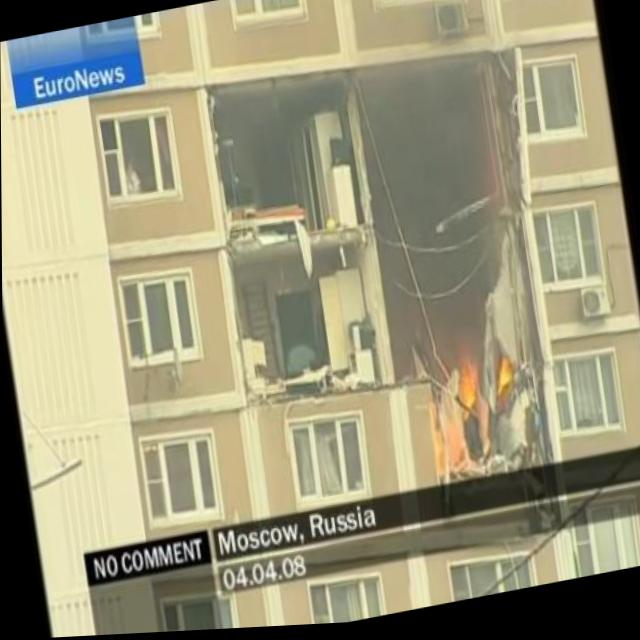fire: (448, 353, 488, 432), (494, 355, 520, 406)
